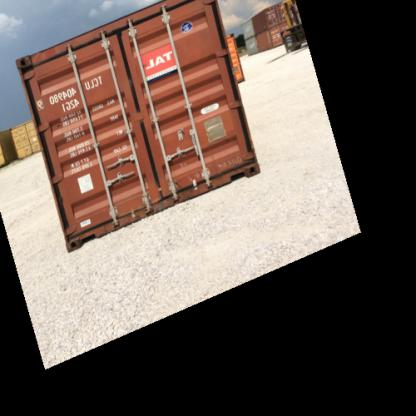Damage: (150, 194, 178, 213)
